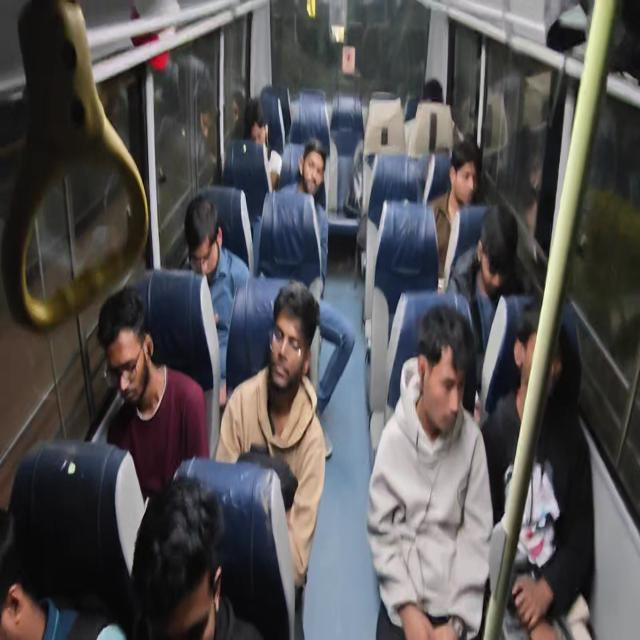person: (366, 303, 494, 638), (215, 279, 326, 637), (480, 313, 595, 639), (96, 286, 210, 504), (129, 473, 263, 639), (445, 203, 526, 415), (0, 508, 126, 640), (182, 194, 252, 406), (426, 138, 481, 290), (280, 138, 328, 285), (508, 129, 546, 262), (243, 97, 282, 191), (283, 138, 327, 211), (194, 89, 219, 187), (223, 90, 245, 168)
